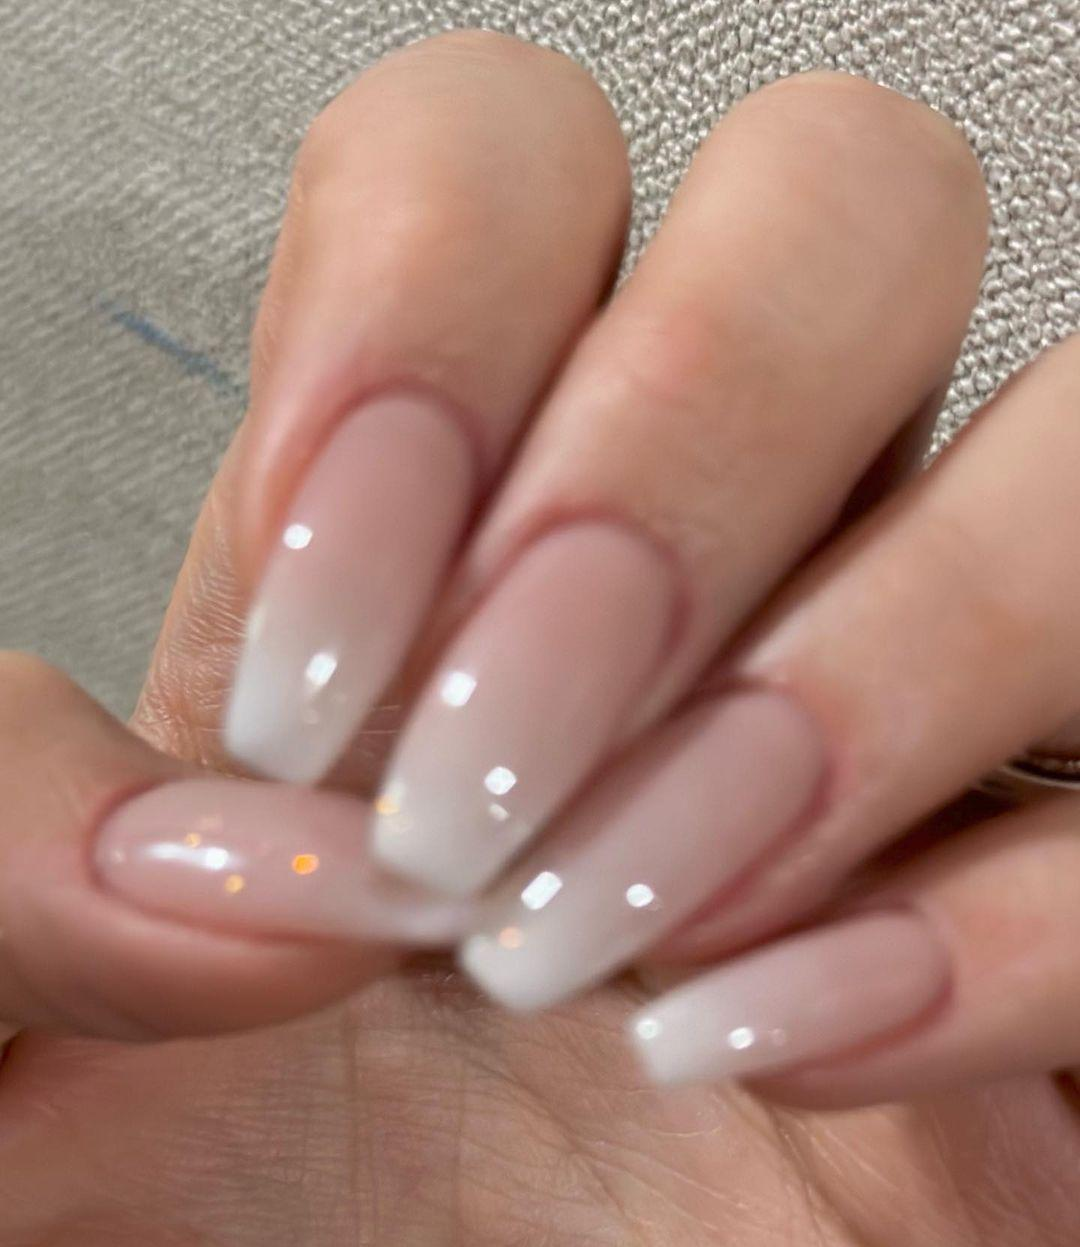nail: (454, 673, 827, 1013), (366, 512, 686, 898), (219, 379, 482, 785), (87, 771, 471, 949), (625, 898, 954, 1090)
